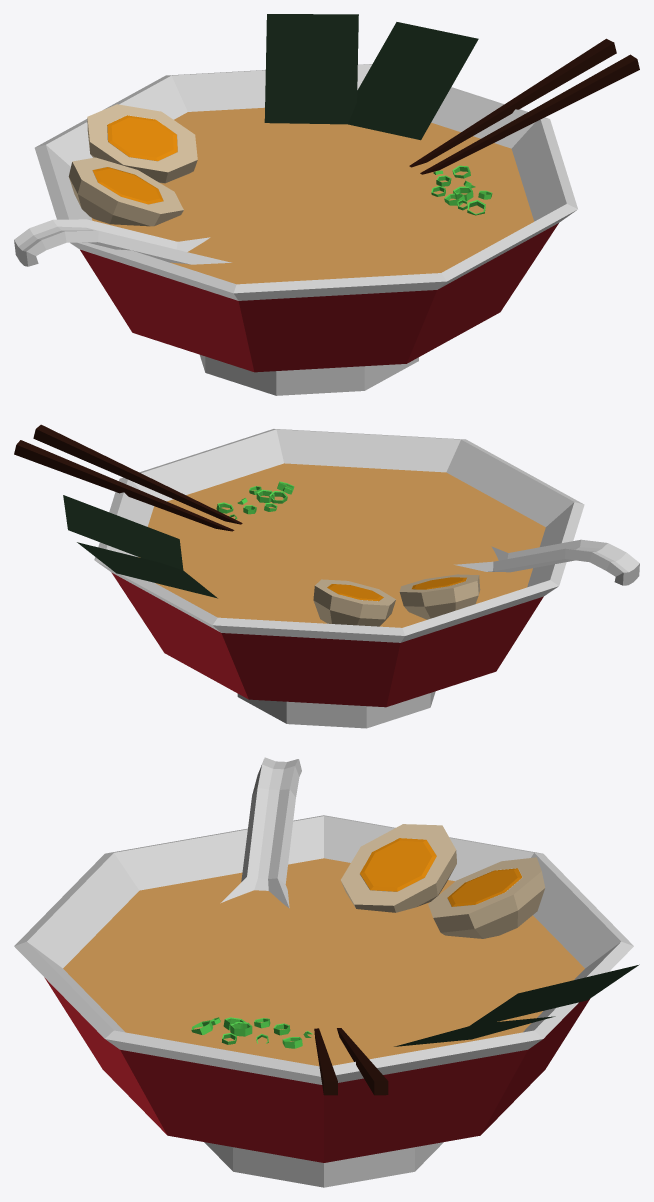
File: ramen.glb
3 renders of one model, top to bottom at view 1: azimuth 30°, elevation 25°; view 2: azimuth 150°, elevation 25°; view 3: azimuth 270°, elevation 25°, orthographic. The views are drawn at different scales.
Visible parts, largest first — view 1: Circle, Circle.003, Plane, Plane.001, Circle.002, Circle.001, Cube.002, Cube, Cube.001; view 2: Circle, Circle.003, Plane.001, Cube.002, Circle.002, Circle.001, Cube.001, Cube, Plane; view 3: Circle, Circle.003, Circle.001, Circle.002, Cube.002, Plane, Plane.001, Cube.001, Cube.
Boxes of the visible parts, box(x1,y1,x2,y2) form: Circle: box(34, 64, 577, 395); Circle.003: box(91, 107, 533, 284); Plane: box(264, 14, 358, 124); Plane.001: box(348, 22, 478, 140); Circle.002: box(87, 104, 197, 183); Circle.001: box(68, 157, 183, 226); Cube.002: box(14, 219, 231, 266); Cube: box(420, 54, 639, 174); Cube.001: box(409, 38, 616, 167); Circle: box(94, 429, 584, 728); Circle.003: box(138, 463, 545, 627); Plane.001: box(63, 495, 183, 570); Cube.002: box(454, 539, 639, 585); Circle.002: box(313, 579, 395, 626); Circle.001: box(399, 574, 480, 619); Cube.001: box(14, 440, 234, 531); Cube: box(33, 424, 242, 524); Plane: box(77, 542, 217, 598); Circle: box(14, 815, 633, 1187); Circle.003: box(63, 858, 584, 1066); Circle.001: box(340, 824, 456, 912); Circle.002: box(428, 857, 545, 938); Cube.002: box(220, 757, 301, 908); Plane: box(470, 964, 639, 1025); Plane.001: box(394, 1016, 555, 1046); Cube.001: box(337, 1028, 388, 1095); Cube: box(314, 1028, 337, 1095).
Size of the model in its own units: 4.67 by 1.46 by 3.59.
